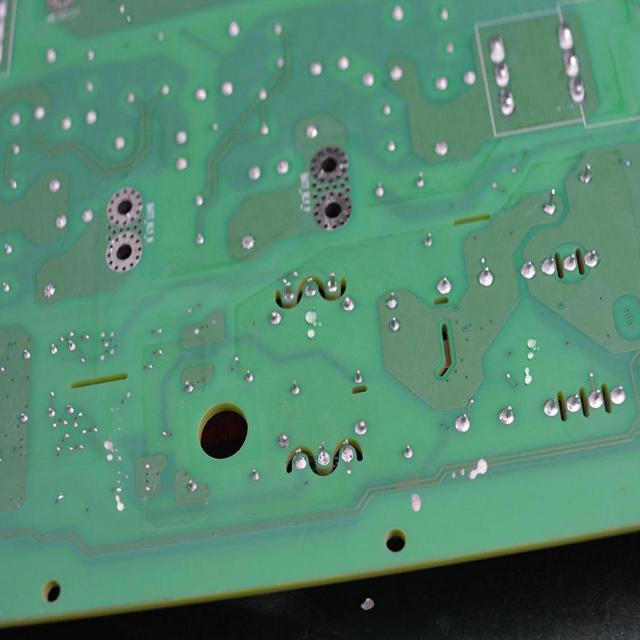spillover: (520, 330, 546, 384), (444, 454, 489, 484), (110, 469, 129, 516), (302, 303, 328, 328), (102, 433, 125, 460)
